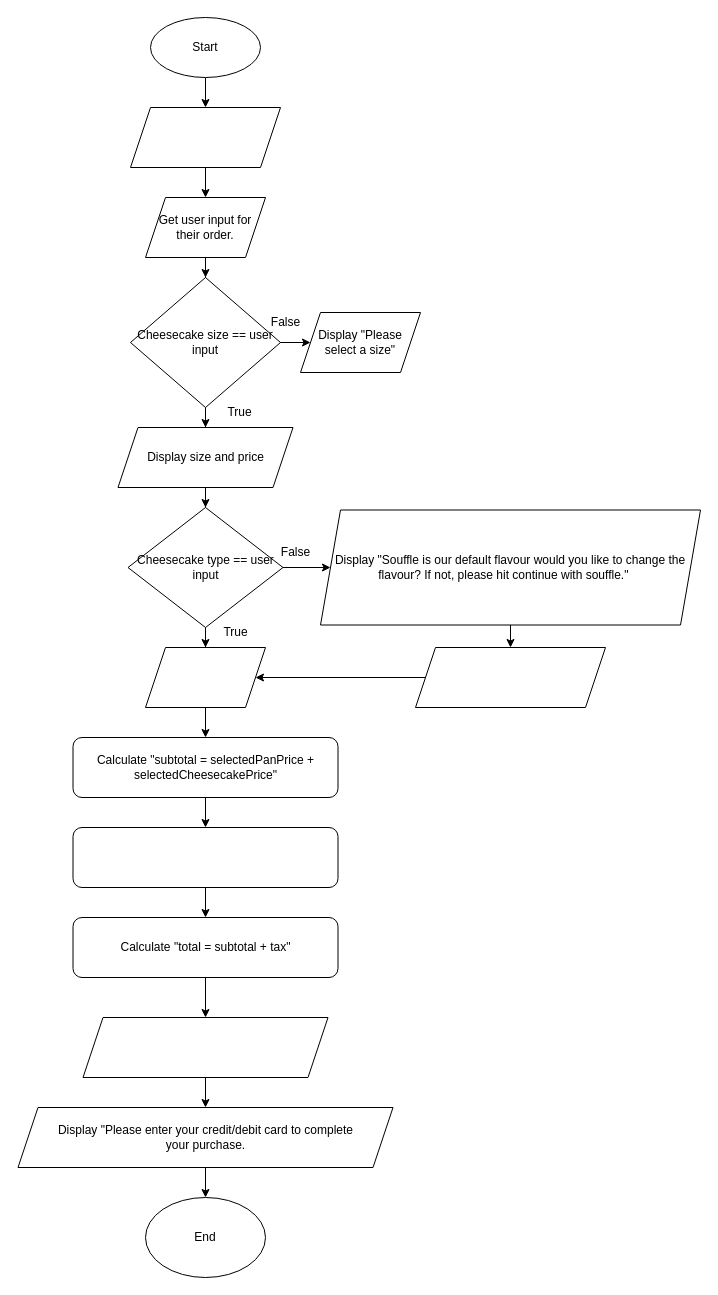
The diagram is 718 pixels wide and 1295 high, and some of its shapes have lost their labels. Each missing label, with the centre of its shape:
Calculate " tax = subtotal * TAX_RATE ": the point at 205,857
Display button "Continue with souffle: the point at 510,677
Display opinion bar for user.: the point at 205,137
Display price of subtotal, tax, and total: the point at 205,1047
Display type and price: the point at 205,677
